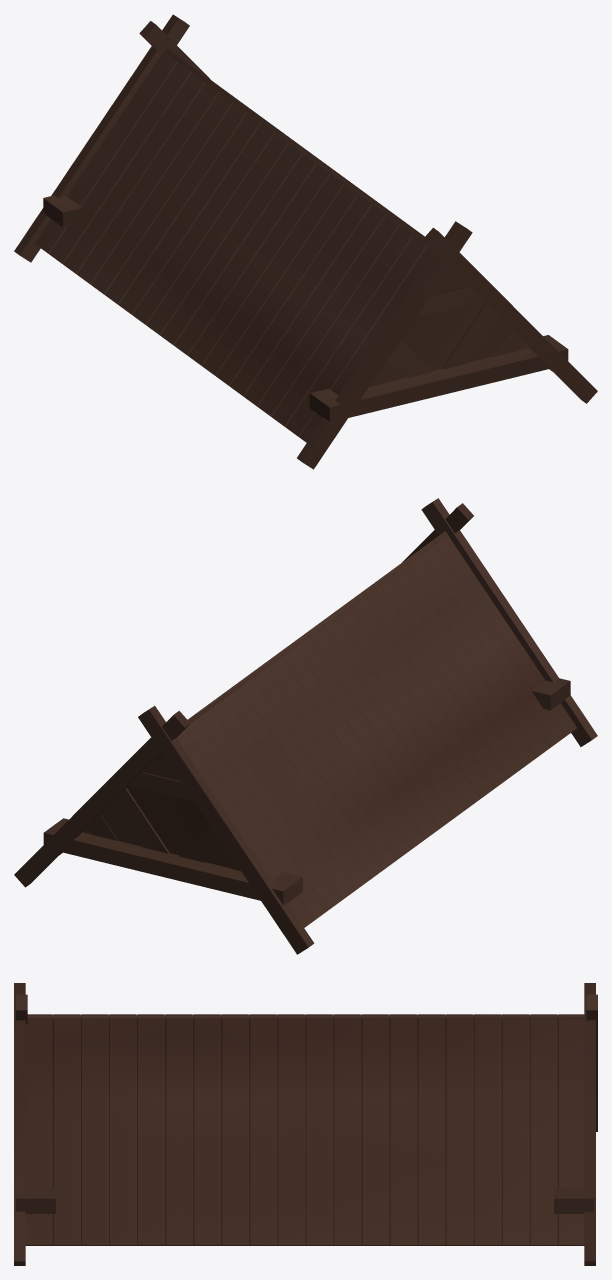
The model's file is rooof.fbx.
The picture shows the model from 3 angles, top to bottom: view 1: azimuth 30°, elevation 25°; view 2: azimuth 150°, elevation 25°; view 3: azimuth 270°, elevation 25°; orthographic projection.
Visible parts, largest first — view 1: Roof_01_b; view 2: Roof_01_b; view 3: Roof_01_b.
Part boxes in pixels (<box>): Roof_01_b: <box>14,14,597,469</box>; Roof_01_b: <box>14,498,597,954</box>; Roof_01_b: <box>14,983,597,1265</box>.
Size of the model in its own units: 351 by 237 by 597.
